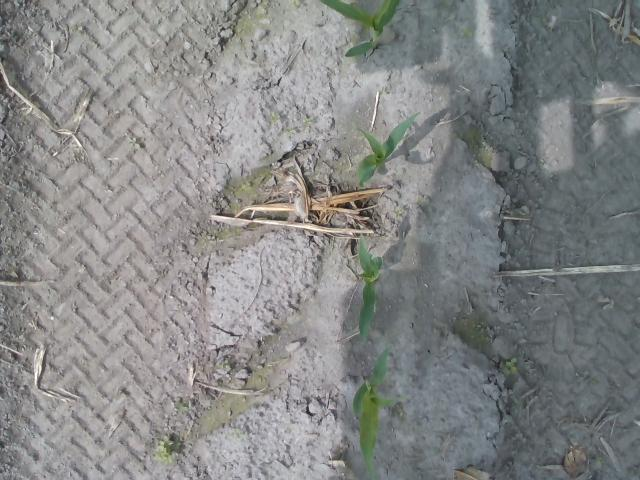Maize: (351, 341, 396, 480), (318, 0, 402, 60), (354, 111, 421, 186), (357, 236, 383, 345)
Weeds: (155, 438, 180, 464), (502, 356, 518, 376), (459, 21, 474, 38), (126, 136, 140, 150), (269, 112, 282, 123), (176, 402, 188, 411), (224, 358, 232, 369), (394, 207, 404, 215), (290, 0, 300, 8), (302, 118, 312, 126)
